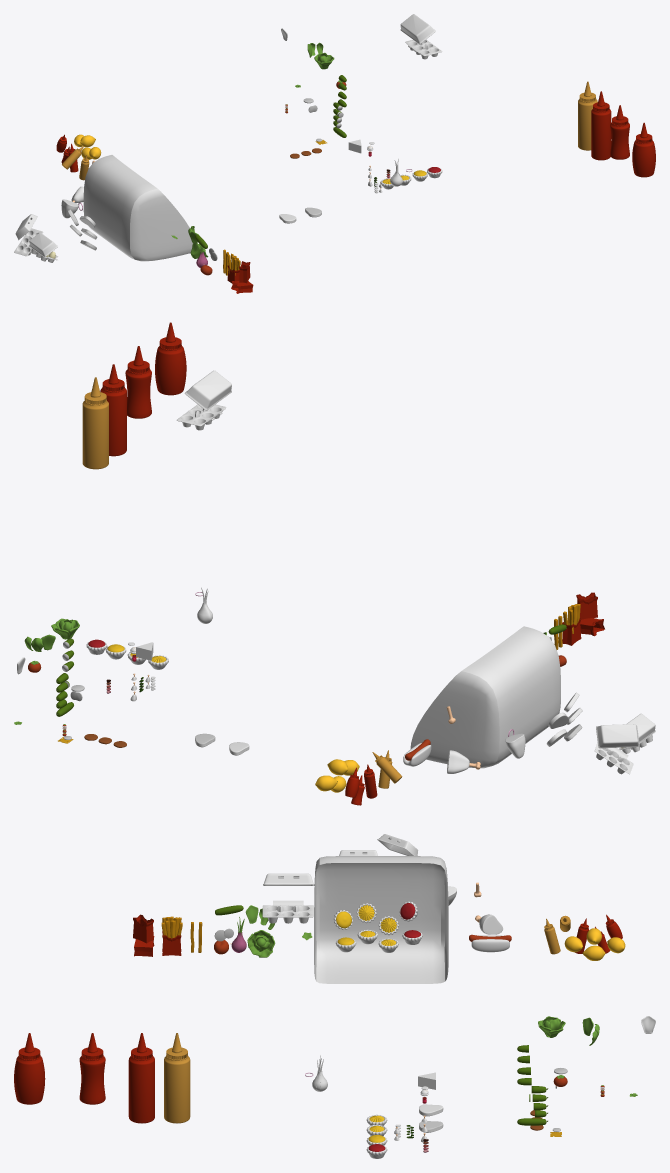
Rendered from Meat.fbx.
The picture shows the model from 3 angles, top to bottom: view 1: azimuth 30°, elevation 25°; view 2: azimuth 150°, elevation 25°; view 3: azimuth 270°, elevation 25°; orthographic projection. The views are drawn at different scales.
Visible parts, largest first — view 1: Cube.022, Cylinder.012, Cylinder.027, Cylinder.023, Cylinder.025, Cube.101, Cube.096, Cube.097; view 2: Cube.022, Cylinder.023, Cylinder.027, Cylinder.012, Cylinder.025, Cube.101, Cube.100, Cube.097; view 3: Cube.022, Cylinder.023, Cylinder.012, Cylinder.027, Cylinder.025, Cube.097, Cube.101, Cube.054, Cube.100, Cube.075, Plane.005.
Part boxes in pixels (box(x1,y1,x2,y2)): Cube.022: box(83, 155, 192, 261); Cylinder.012: box(591, 109, 611, 160); Cylinder.027: box(632, 140, 655, 177); Cylinder.023: box(578, 99, 597, 150); Cylinder.025: box(610, 123, 629, 159); Cube.101: box(400, 14, 435, 43); Cube.096: box(29, 232, 57, 256); Cube.097: box(405, 39, 442, 59); Cube.022: box(410, 626, 560, 768); Cylinder.023: box(82, 401, 108, 469); Cylinder.027: box(155, 346, 186, 395); Cylinder.012: box(100, 388, 126, 456); Cylinder.025: box(125, 369, 151, 418); Cube.101: box(184, 370, 231, 410); Cube.100: box(596, 724, 639, 748); Cube.097: box(176, 404, 226, 430); Cube.022: box(314, 856, 448, 983); Cylinder.023: box(164, 1056, 190, 1123); Cylinder.012: box(128, 1056, 154, 1123); Cylinder.027: box(14, 1056, 45, 1104); Cylinder.025: box(79, 1056, 105, 1104); Cube.097: box(262, 900, 313, 923); Cube.101: box(263, 873, 314, 885); Cube.054: box(247, 930, 275, 957); Cube.100: box(377, 834, 418, 855); Cube.075: box(471, 935, 509, 952); Plane.005: box(133, 914, 153, 943).
Bounding box in the file's own units: 8463 × 3571 × 7180.
